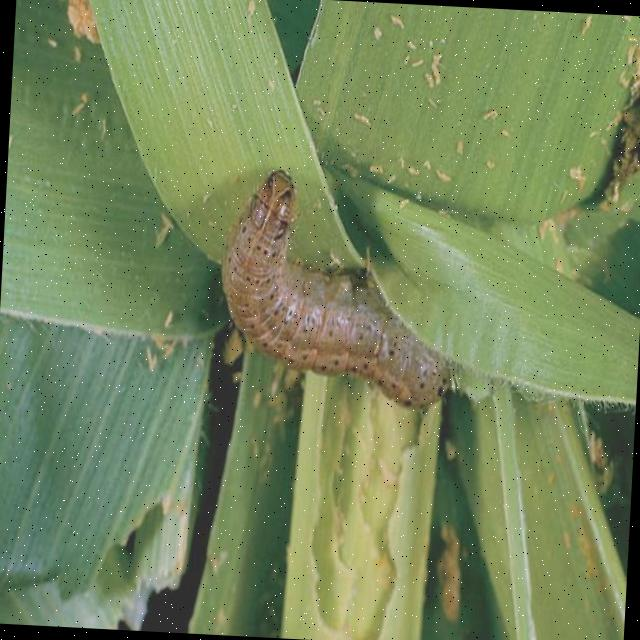worm: (213, 168, 464, 417)
